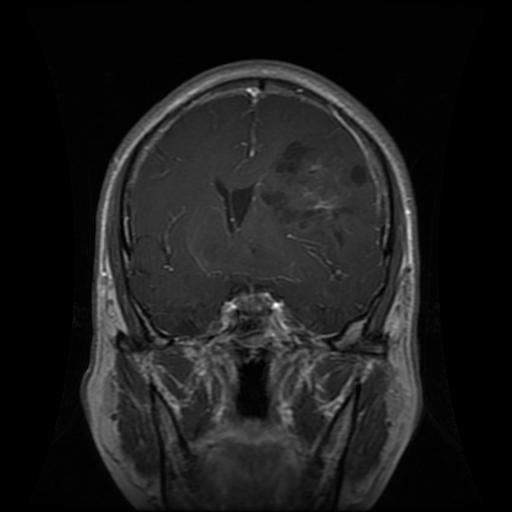Gliomia_tumour: (257, 138, 370, 241)
